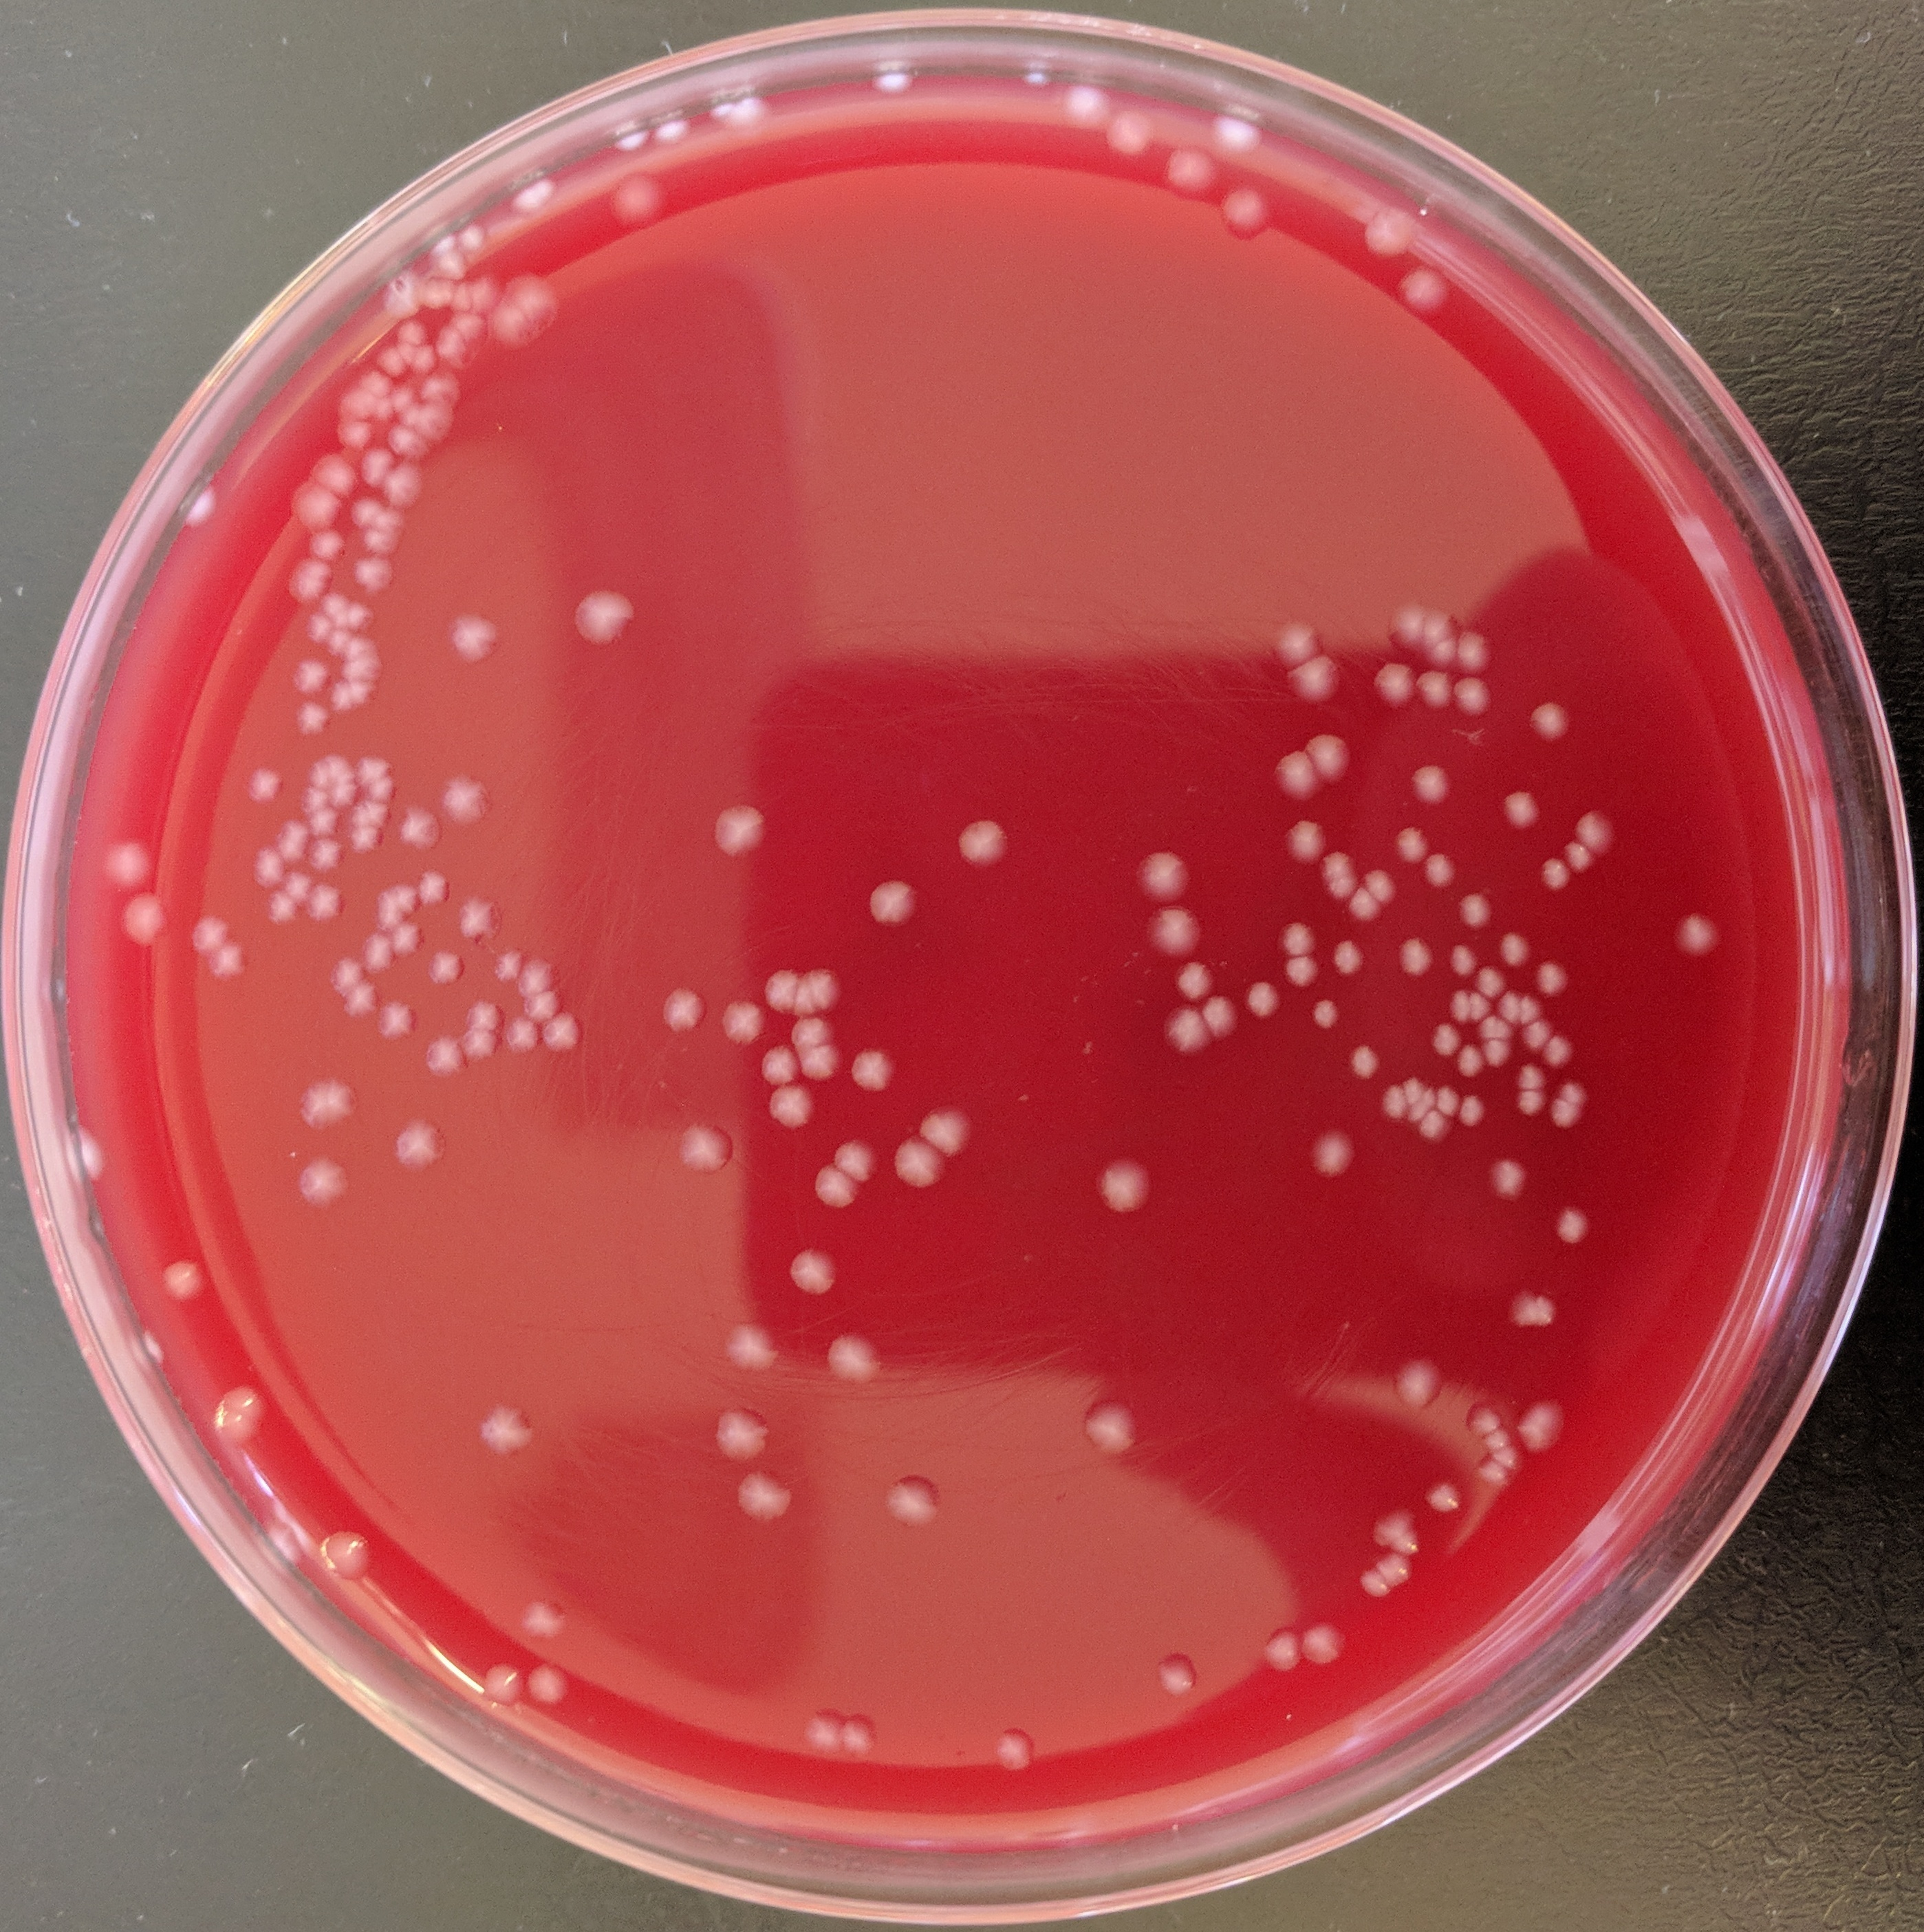sp18: (377, 1102, 474, 1187), (728, 1464, 809, 1536), (877, 1469, 955, 1537), (282, 1150, 356, 1220), (1205, 173, 1274, 248), (601, 167, 671, 240), (1092, 1148, 1161, 1222), (1078, 1393, 1142, 1471), (566, 581, 640, 646), (513, 1583, 581, 1652), (707, 794, 773, 865), (1159, 132, 1225, 204), (1129, 845, 1198, 912), (291, 1073, 365, 1134), (707, 1402, 781, 1464), (113, 889, 181, 955), (671, 1115, 745, 1175), (1302, 724, 1362, 798), (950, 810, 1015, 877), (1096, 104, 1161, 169), (97, 833, 164, 896), (823, 1323, 886, 1390), (317, 1523, 386, 1585), (715, 1316, 784, 1375), (1302, 1124, 1367, 1185), (476, 1398, 543, 1458), (1205, 107, 1279, 160), (499, 264, 560, 328), (1515, 1397, 1579, 1456), (800, 1696, 856, 1763), (913, 1106, 981, 1161), (284, 479, 345, 539), (150, 1256, 213, 1314), (652, 979, 708, 1044), (1385, 1351, 1450, 1407), (1281, 655, 1348, 710), (1269, 748, 1328, 808), (437, 770, 495, 830), (867, 877, 929, 933), (1156, 1002, 1212, 1064), (1374, 595, 1425, 662), (892, 1139, 950, 1198), (1394, 262, 1454, 319), (1057, 76, 1112, 137), (1140, 905, 1202, 960), (987, 1719, 1040, 1782), (1269, 618, 1332, 671), (1353, 1501, 1418, 1552), (506, 176, 564, 232), (1570, 805, 1624, 865), (1360, 204, 1415, 262), (789, 1242, 844, 1300), (1367, 660, 1422, 719), (823, 1131, 883, 1184), (201, 1404, 270, 1449), (448, 608, 502, 664), (470, 1654, 525, 1710), (1145, 1645, 1202, 1700), (1302, 1617, 1357, 1673), (483, 298, 534, 358), (236, 756, 287, 815), (1279, 814, 1330, 874), (455, 893, 502, 956), (807, 1162, 863, 1215), (1521, 697, 1577, 750), (525, 1659, 576, 1717), (1496, 782, 1547, 840), (1239, 972, 1286, 1034), (1476, 1154, 1533, 1205), (717, 995, 766, 1053), (1413, 662, 1462, 720), (284, 650, 337, 703), (1402, 754, 1457, 805), (398, 801, 446, 859), (1256, 1619, 1302, 1678), (284, 553, 337, 604), (1168, 958, 1221, 1009), (1450, 629, 1501, 682), (308, 454, 363, 504), (784, 1006, 837, 1055), (1450, 884, 1499, 937), (1452, 671, 1501, 724), (187, 907, 236, 958), (754, 1043, 805, 1092), (849, 1044, 899, 1095), (1549, 1199, 1598, 1250), (377, 458, 423, 512), (65, 1122, 111, 1176), (770, 1078, 819, 1127), (1558, 837, 1609, 884), (217, 1379, 277, 1420), (421, 1032, 467, 1085), (835, 1710, 888, 1756), (1418, 845, 1462, 900), (374, 269, 423, 317), (349, 551, 398, 599), (204, 937, 252, 986), (1420, 1472, 1468, 1522), (1388, 926, 1436, 976), (1279, 951, 1328, 999), (374, 993, 419, 1044), (1672, 905, 1718, 956), (414, 259, 458, 312), (301, 525, 356, 567), (425, 321, 470, 368), (289, 697, 337, 743), (342, 819, 389, 865), (352, 930, 398, 977), (337, 974, 382, 1021), (1390, 822, 1436, 870), (333, 386, 384, 428), (181, 484, 224, 535), (1343, 1036, 1385, 1087), (1198, 992, 1240, 1043), (763, 963, 800, 1021), (728, 93, 782, 132), (423, 942, 470, 986), (500, 1007, 541, 1058), (455, 1023, 506, 1064), (326, 416, 381, 453), (352, 446, 396, 491), (305, 879, 349, 925), (375, 882, 419, 928), (1325, 933, 1371, 977), (1274, 914, 1320, 958), (326, 955, 368, 1002), (541, 1004, 583, 1051), (1369, 1548, 1417, 1590), (812, 962, 846, 1021), (340, 646, 389, 687), (1540, 852, 1580, 902), (1422, 632, 1462, 682), (245, 844, 284, 895), (796, 1043, 840, 1087), (486, 942, 527, 990), (416, 368, 465, 407), (442, 301, 485, 345), (412, 398, 458, 439), (516, 986, 562, 1027), (1376, 1080, 1413, 1129), (1538, 1030, 1580, 1073), (1343, 884, 1385, 926), (308, 835, 349, 879), (514, 949, 553, 995), (1415, 602, 1448, 655), (1468, 1455, 1515, 1492), (412, 866, 453, 909), (1533, 958, 1573, 1000), (1018, 65, 1062, 104), (1425, 1021, 1464, 1066), (465, 275, 502, 321), (1501, 1287, 1538, 1333), (604, 127, 661, 157), (453, 215, 493, 255), (358, 794, 398, 835), (465, 995, 506, 1036), (1362, 865, 1402, 905), (384, 419, 426, 458), (351, 748, 393, 787), (1454, 1039, 1491, 1083), (354, 528, 405, 560), (389, 921, 428, 962), (1499, 930, 1536, 972), (1517, 1018, 1561, 1053), (1475, 962, 1508, 1007), (1415, 1108, 1454, 1147), (352, 363, 393, 400), (1462, 1395, 1499, 1435), (1325, 870, 1362, 911), (1455, 1094, 1491, 1136), (1309, 990, 1343, 1034), (1357, 1562, 1388, 1608), (1387, 1525, 1427, 1560), (310, 578, 344, 620), (268, 831, 301, 874), (141, 1324, 173, 1368), (652, 120, 698, 150), (1487, 1439, 1524, 1476), (1510, 1083, 1547, 1120), (1512, 1058, 1550, 1094), (1529, 1291, 1563, 1331), (301, 805, 338, 840), (1478, 1011, 1515, 1046), (1316, 845, 1351, 882), (375, 505, 414, 539), (876, 67, 921, 95), (356, 777, 402, 805), (1434, 1078, 1462, 1122), (344, 490, 382, 521), (1447, 942, 1478, 981), (791, 967, 816, 1016), (388, 386, 423, 419), (263, 891, 296, 926), (1482, 1036, 1515, 1071), (433, 247, 465, 284), (1447, 986, 1475, 1027), (280, 868, 314, 902), (324, 778, 358, 812), (446, 277, 477, 312), (368, 343, 402, 375), (337, 601, 374, 629), (1547, 1097, 1575, 1134), (333, 676, 359, 715), (298, 785, 328, 819), (393, 317, 430, 343), (1496, 984, 1522, 1021), (305, 613, 337, 643), (1482, 1423, 1513, 1453), (1519, 993, 1547, 1027), (1558, 1076, 1587, 1106), (322, 763, 354, 791), (280, 815, 308, 845), (342, 627, 374, 653), (308, 759, 333, 793), (1466, 990, 1491, 1023), (416, 336, 437, 375), (1399, 1074, 1425, 1104), (425, 232, 456, 257), (324, 622, 349, 653), (1404, 1097, 1431, 1124), (372, 398, 400, 423), (344, 801, 366, 831), (395, 340, 421, 363), (322, 750, 349, 773), (1418, 1088, 1439, 1111), (396, 407, 421, 423), (712, 97, 731, 113)
